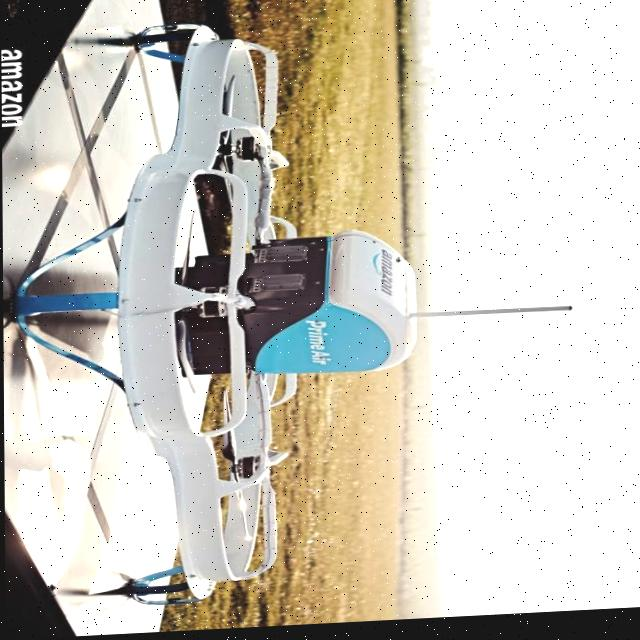drone: (64, 16, 376, 626)
